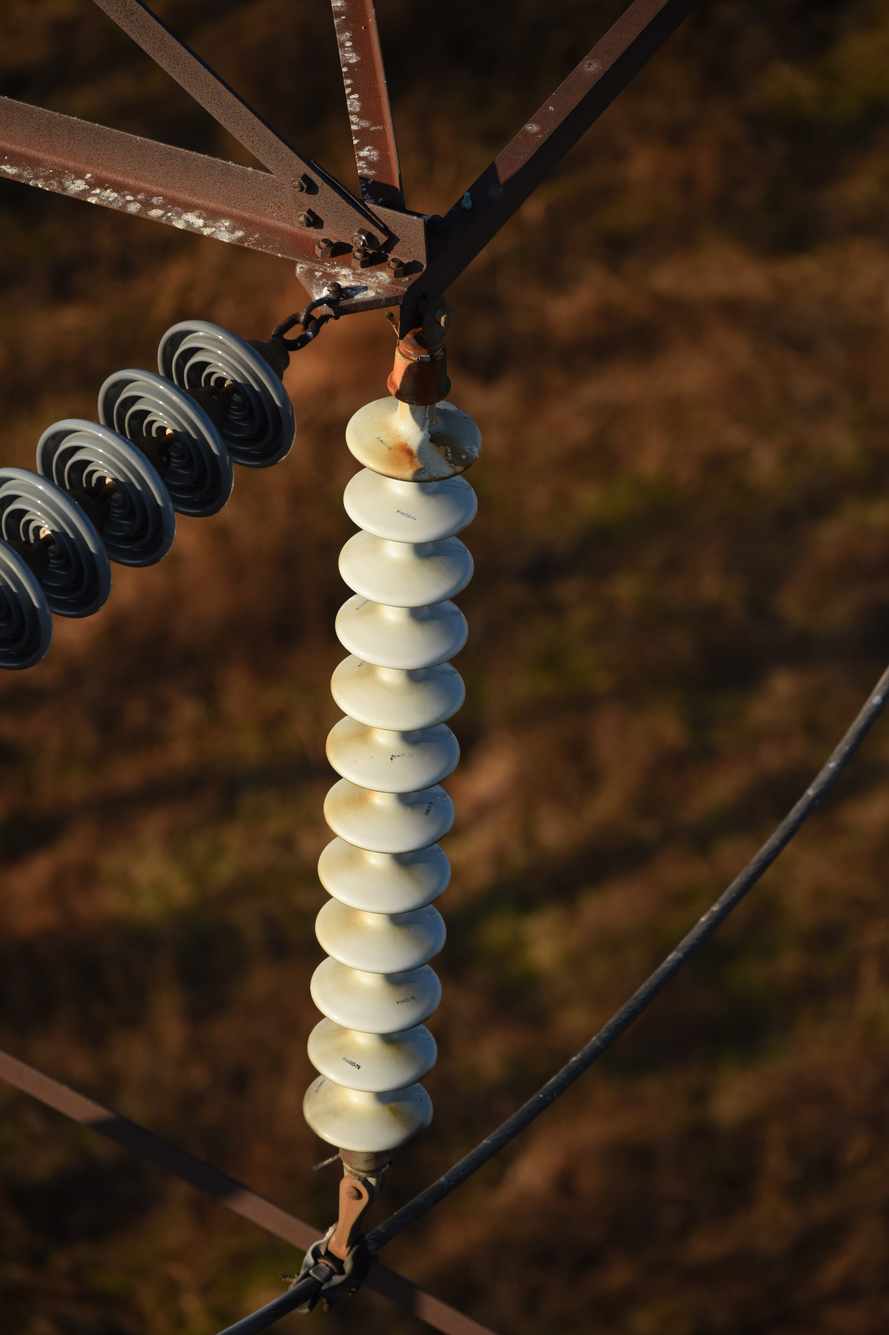Flashover: (419, 426, 481, 467)
insulator: (305, 400, 482, 1152), (0, 319, 302, 671)
